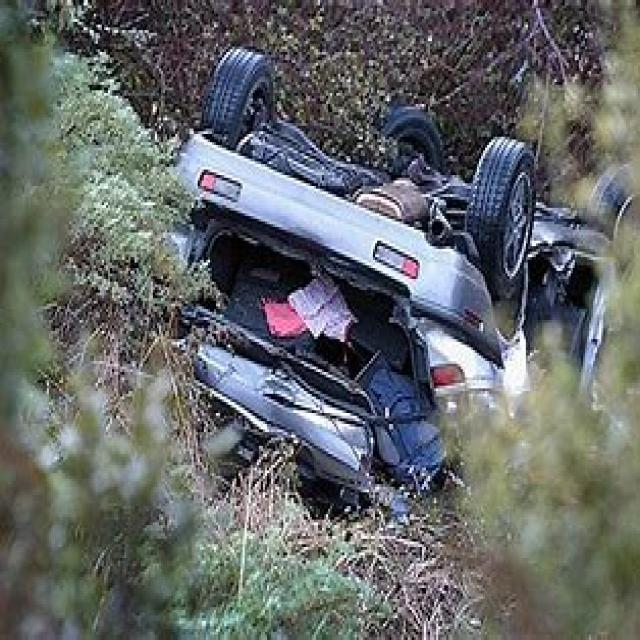Accident: (96, 22, 594, 474)
